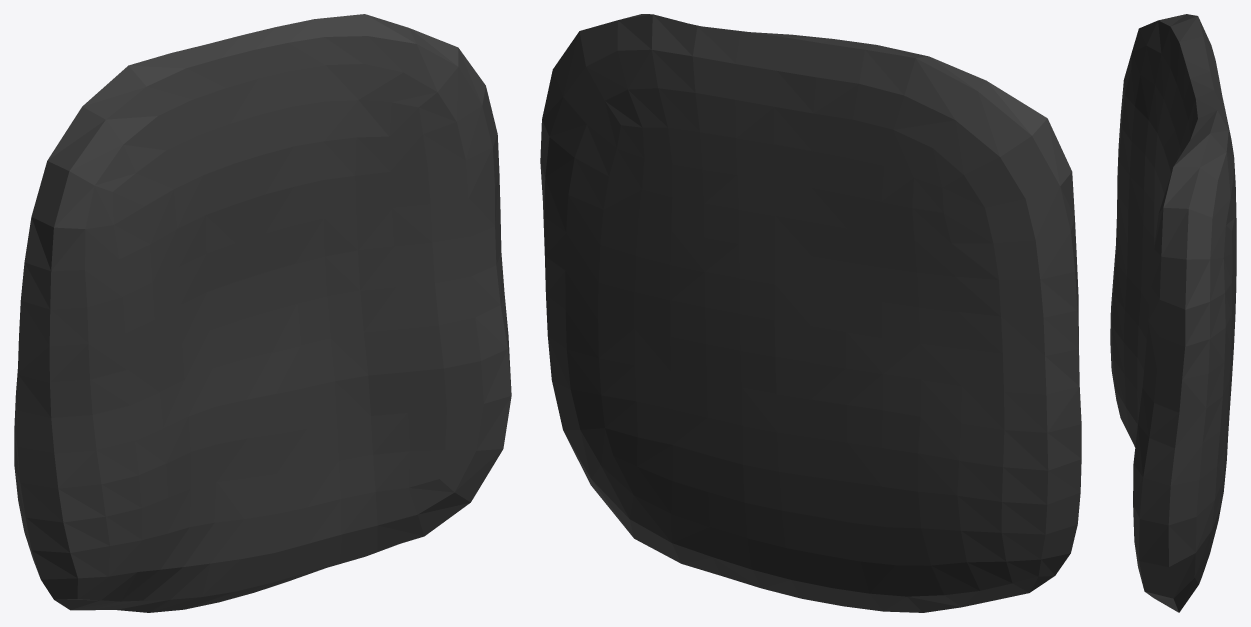
File: CDE_bursa.glb
The picture shows the model from 3 angles, left to right: view 1: azimuth 30°, elevation 25°; view 2: azimuth 150°, elevation 25°; view 3: azimuth 270°, elevation 25°; orthographic projection. The views are drawn at different scales.
Parts seen in each view (by area): view 1: CDE_bursa; view 2: CDE_bursa; view 3: CDE_bursa.
Boxes of the visible parts, <box> form: CDE_bursa: <box>14,14,511,612</box>; CDE_bursa: <box>540,14,1081,612</box>; CDE_bursa: <box>1110,14,1236,612</box>.
Size of the model in its own units: 0.6316 by 0.6639 by 0.1551.
1 material, 1 textured.
